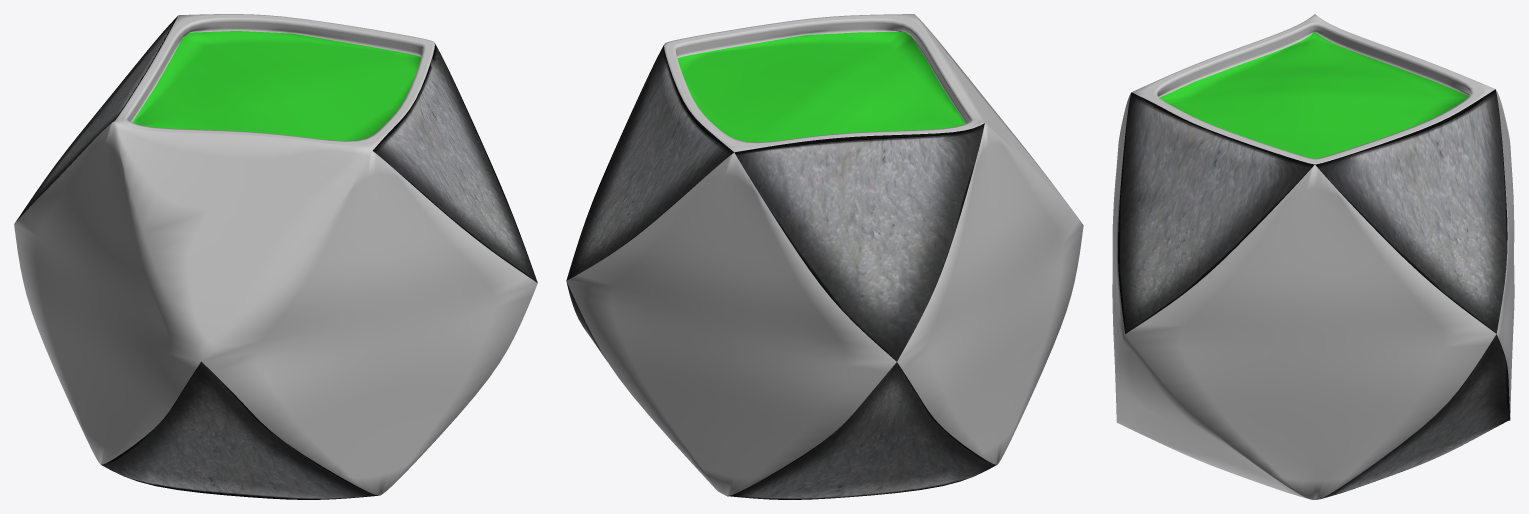
File: Boulder.fbx
3 renders of one model, left to right at view 1: azimuth 30°, elevation 25°; view 2: azimuth 150°, elevation 25°; view 3: azimuth 270°, elevation 25°, orthographic. The views are drawn at different scales.
Visible parts, largest first — view 1: Boulder; view 2: Boulder; view 3: Boulder.
Part boxes in pixels (x1,y1,x2,y2): Boulder: (14,14,537,499); Boulder: (566,14,1083,499); Boulder: (1112,14,1514,499).
Bounding box in the file's own units: 110 × 106 × 110.
